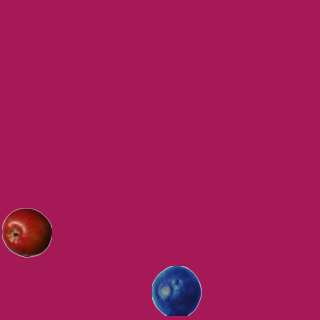Apple Braeburn: (1, 207, 51, 257)
Huckleberry: (151, 265, 201, 315)
